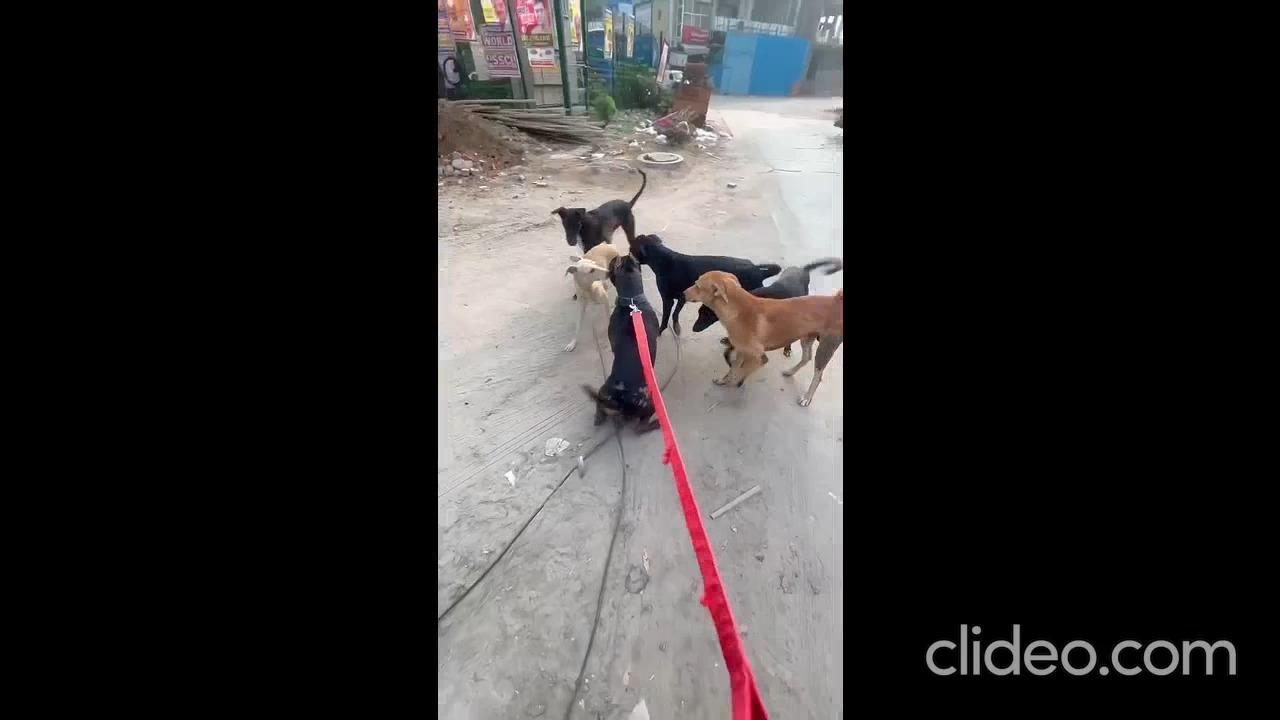dog: (684, 268, 843, 405), (627, 231, 792, 338), (534, 167, 653, 243), (563, 242, 615, 332)
